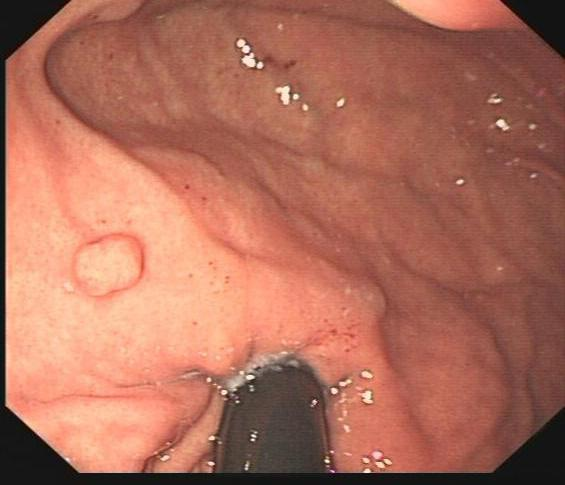Polyp: (68, 229, 142, 307)
